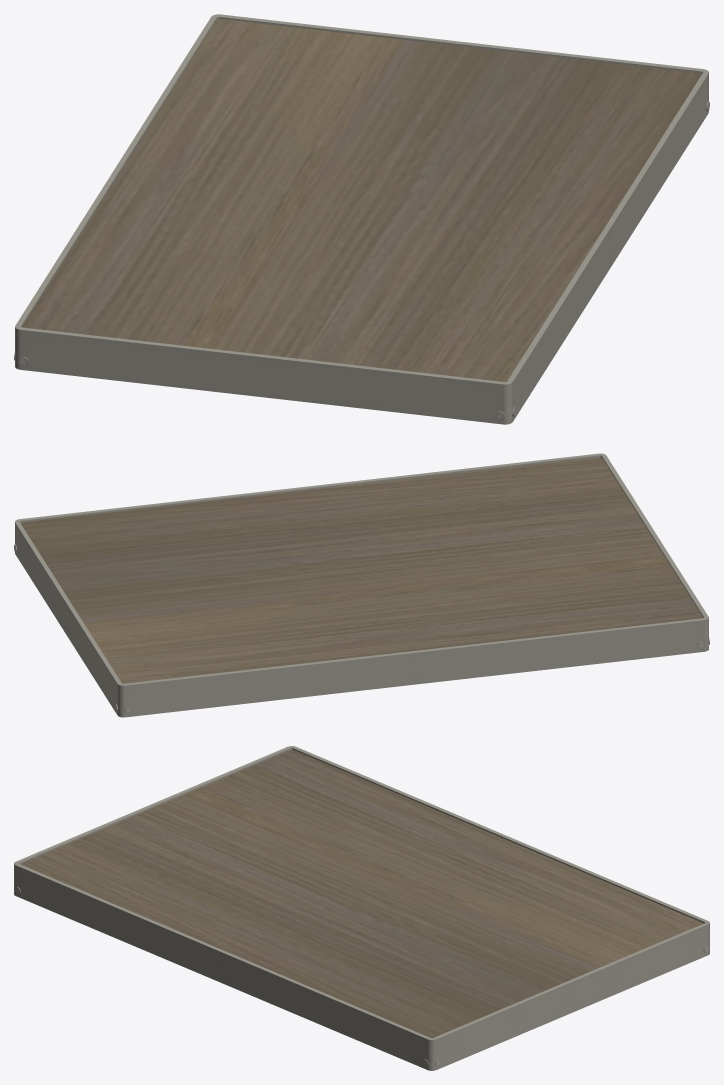
File: bot_0101_w600_d400.glb
3 views of the same model, one above another, from view 1: azimuth 30°, elevation 25°; view 2: azimuth 150°, elevation 25°; view 3: azimuth 270°, elevation 25° (orthographic). The views are drawn at different scales.
Visible parts, largest first — view 1: bottom_shelf_0101_w600_d400, bottom_frame_0201_w600_d400; view 2: bottom_shelf_0101_w600_d400, bottom_frame_0201_w600_d400; view 3: bottom_shelf_0101_w600_d400, bottom_frame_0201_w600_d400.
Part boxes in pixels (x1=…): bottom_shelf_0101_w600_d400: x1=22, y1=19, x2=700, y2=381; bottom_frame_0201_w600_d400: x1=14, y1=14, x2=709, y2=424; bottom_shelf_0101_w600_d400: x1=21, y1=457, x2=702, y2=683; bottom_frame_0201_w600_d400: x1=14, y1=453, x2=709, y2=717; bottom_shelf_0101_w600_d400: x1=21, y1=750, x2=702, y2=1038; bottom_frame_0201_w600_d400: x1=14, y1=746, x2=709, y2=1070.
Size of the model in its own units: 0.7021 by 0.0343 by 0.7021.
2 materials, 2 textured.
